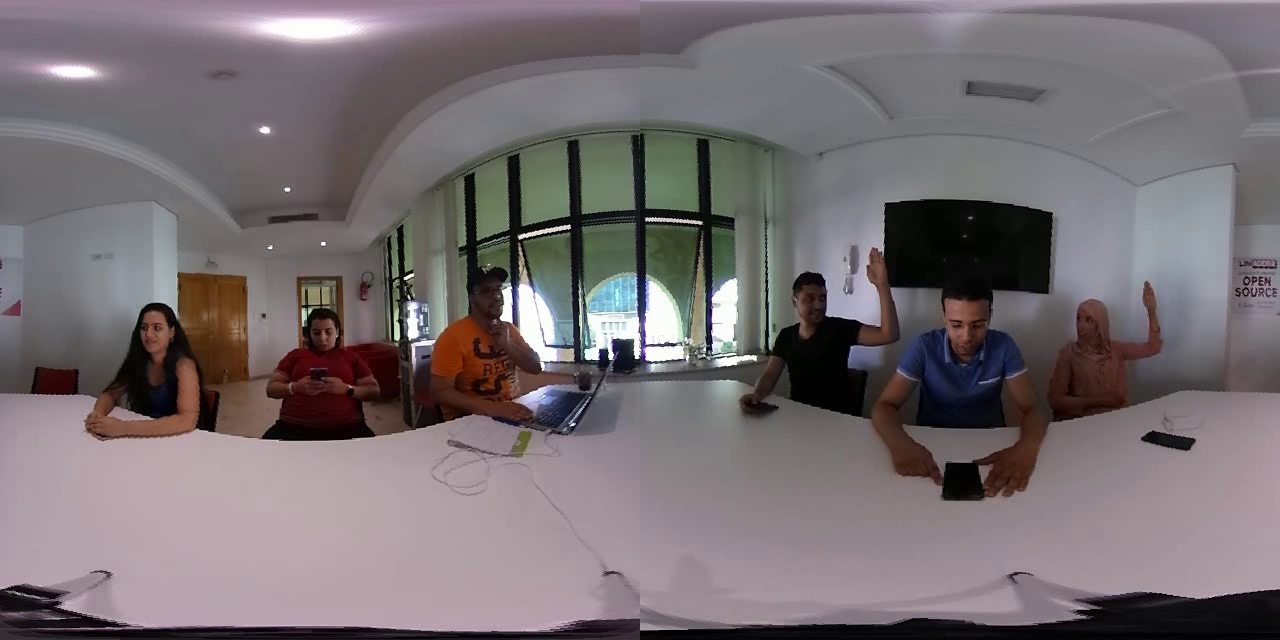person: (898, 275, 1055, 504), (738, 242, 906, 416), (425, 258, 562, 419), (1055, 281, 1190, 432), (82, 296, 215, 446), (262, 297, 381, 434)
voting: (837, 245, 904, 358), (1123, 283, 1173, 371)
